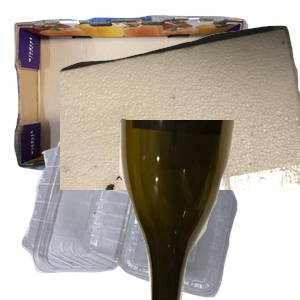cardboard: (11, 13, 251, 182)
glass: (117, 120, 300, 300)
plastic: (19, 139, 249, 300)
trash: (60, 23, 300, 203)
